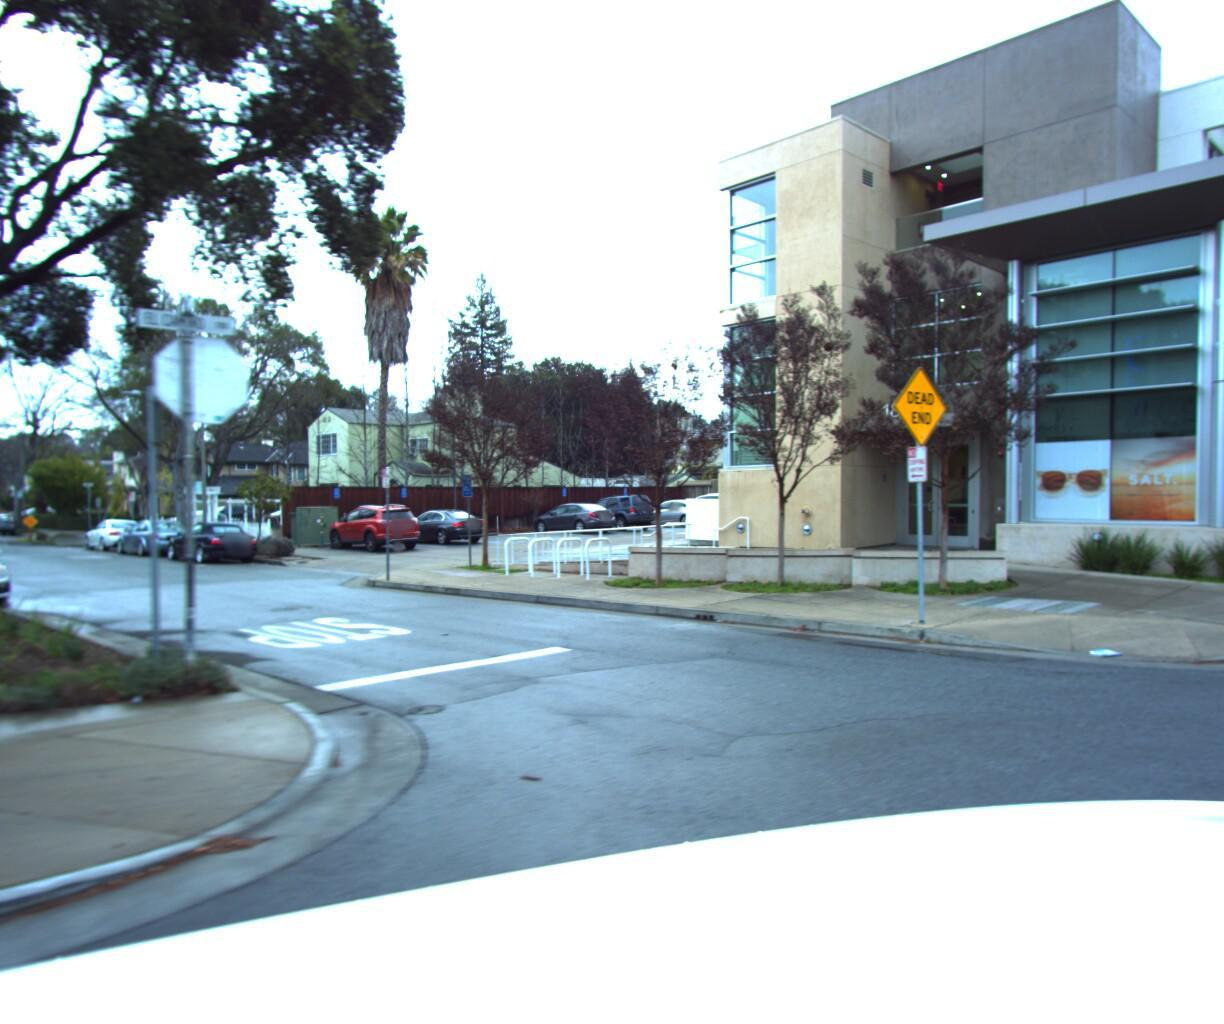car: (324, 500, 427, 550), (161, 517, 263, 564), (386, 504, 491, 546), (116, 517, 200, 559), (85, 517, 157, 552), (0, 527, 20, 625), (0, 511, 24, 533)
